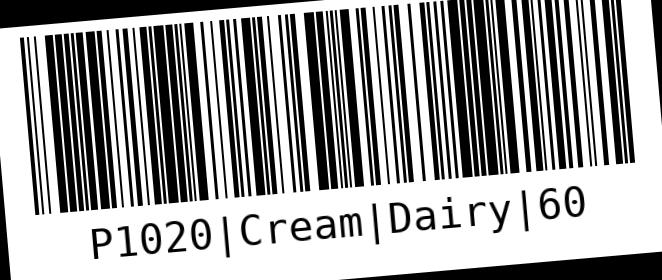milk: (0, 0, 661, 278)
